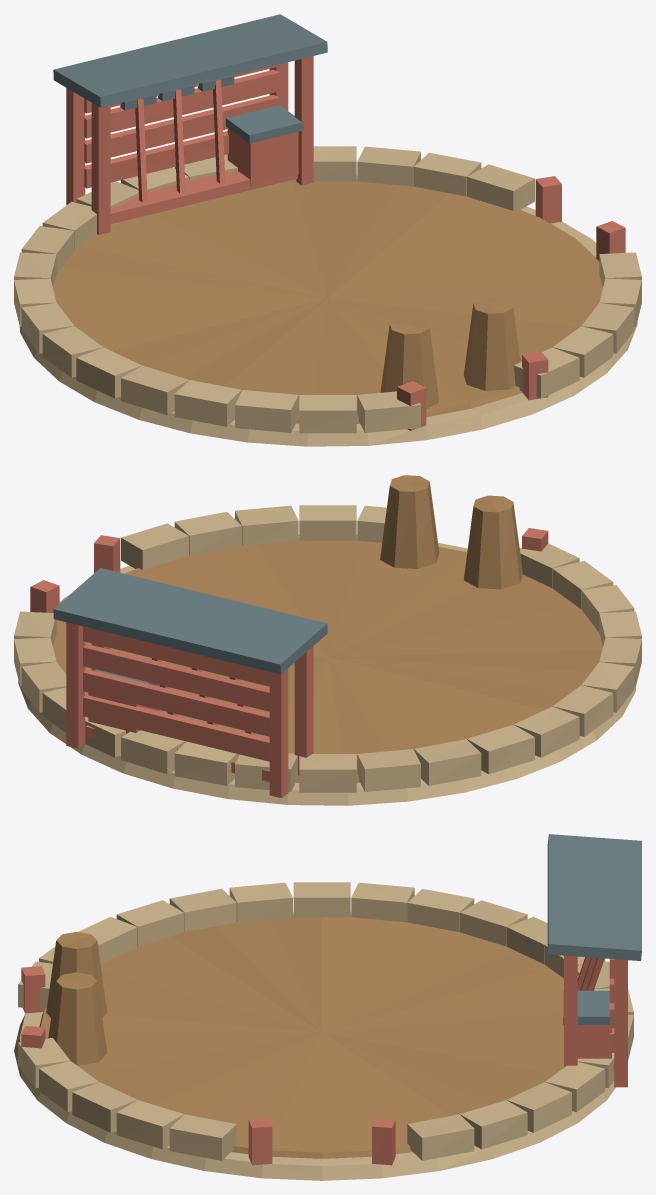
Rendered from threshing-floor.source.glb.
3 renders of one model, top to bottom at view 1: azimuth 30°, elevation 25°; view 2: azimuth 150°, elevation 25°; view 3: azimuth 270°, elevation 25°, orthographic.
Parts seen in each view (by area): view 1: threshing-floor-compacted-clay-threshing-surface-mesh, threshing-floor-shallow-covered-edge-roof-mesh, threshing-floor-rounded-floor-base-mesh, threshing-floor-tied-sheaf-bundle-2-mesh, threshing-floor-tied-sheaf-bundle-1-mesh, threshing-floor-rear-rack-slat-3-mesh, threshing-floor-tool-rack-shelf-mesh, threshing-floor-rear-rack-slat-2-mesh, threshing-floor-collection-crate-body-mesh, threshing-floor-rear-rack-slat-1-mesh, threshing-floor-left-front-shelter-post-mesh, threshing-floor-curb-block-12-mesh (+33 smaller); view 2: threshing-floor-compacted-clay-threshing-surface-mesh, threshing-floor-shallow-covered-edge-roof-mesh, threshing-floor-rounded-floor-base-mesh, threshing-floor-tied-sheaf-bundle-1-mesh, threshing-floor-tied-sheaf-bundle-2-mesh, threshing-floor-rear-rack-slat-2-mesh, threshing-floor-rear-rack-slat-3-mesh, threshing-floor-rear-rack-slat-1-mesh, threshing-floor-rear-rack-slat-4-mesh, threshing-floor-left-rear-shelter-post-mesh, threshing-floor-curb-block-20-mesh, threshing-floor-curb-block-19-mesh (+29 smaller); view 3: threshing-floor-compacted-clay-threshing-surface-mesh, threshing-floor-shallow-covered-edge-roof-mesh, threshing-floor-rounded-floor-base-mesh, threshing-floor-tied-sheaf-bundle-2-mesh, threshing-floor-curb-block-29-mesh, threshing-floor-curb-block-3-mesh, threshing-floor-tied-sheaf-bundle-1-mesh, threshing-floor-curb-block-4-mesh, threshing-floor-curb-block-28-mesh, threshing-floor-curb-block-16-mesh, threshing-floor-curb-block-17-mesh, threshing-floor-curb-block-15-mesh (+20 smaller).
Boxes of the visible parts, x1,y1,x2,y2 form: threshing-floor-compacted-clay-threshing-surface-mesh: (53,179,602,423); threshing-floor-shallow-covered-edge-roof-mesh: (53,14,327,107); threshing-floor-rounded-floor-base-mesh: (19,175,637,446); threshing-floor-tied-sheaf-bundle-2-mesh: (463,297,520,390); threshing-floor-tied-sheaf-bundle-1-mesh: (380,317,439,408); threshing-floor-rear-rack-slat-3-mesh: (84,69,279,138); threshing-floor-tool-rack-shelf-mesh: (110,171,297,223); threshing-floor-rear-rack-slat-2-mesh: (84,94,279,163); threshing-floor-collection-crate-body-mesh: (227,129,298,186); threshing-floor-rear-rack-slat-1-mesh: (84,131,228,188); threshing-floor-left-front-shelter-post-mesh: (91,103,110,234); threshing-floor-curb-block-12-mesh: (235,390,298,432); threshing-floor-compacted-clay-threshing-surface-mesh: (53,538,602,782); threshing-floor-shallow-covered-edge-roof-mesh: (53,568,327,674); threshing-floor-rounded-floor-base-mesh: (18,535,636,805); threshing-floor-tied-sheaf-bundle-1-mesh: (463,495,522,589); threshing-floor-tied-sheaf-bundle-2-mesh: (380,475,439,568); threshing-floor-rear-rack-slat-2-mesh: (83,669,269,736); threshing-floor-rear-rack-slat-3-mesh: (83,644,269,711); threshing-floor-rear-rack-slat-1-mesh: (83,694,269,761); threshing-floor-rear-rack-slat-4-mesh: (83,626,269,686); threshing-floor-left-rear-shelter-post-mesh: (269,668,288,798); threshing-floor-curb-block-20-mesh: (357,749,420,791); threshing-floor-curb-block-19-mesh: (414,739,481,785); threshing-floor-compacted-clay-threshing-surface-mesh: (39,914,563,1158); threshing-floor-shallow-covered-edge-roof-mesh: (547,834,641,960); threshing-floor-rounded-floor-base-mesh: (14,911,615,1180); threshing-floor-tied-sheaf-bundle-2-mesh: (48,972,107,1065); threshing-floor-curb-block-29-mesh: (407,1114,474,1160); threshing-floor-curb-block-3-mesh: (169,1114,236,1160); threshing-floor-tied-sheaf-bundle-1-mesh: (46,931,107,1017); threshing-floor-curb-block-4-mesh: (116,1100,183,1149); threshing-floor-curb-block-28-mesh: (460,1100,527,1149); threshing-floor-curb-block-16-mesh: (293,882,350,917); threshing-floor-curb-block-17-mesh: (351,882,414,922); threshing-floor-curb-block-15-mesh: (229,882,292,922).
Bounding box in the file's own units: 5.42 × 1.56 × 5.5.
